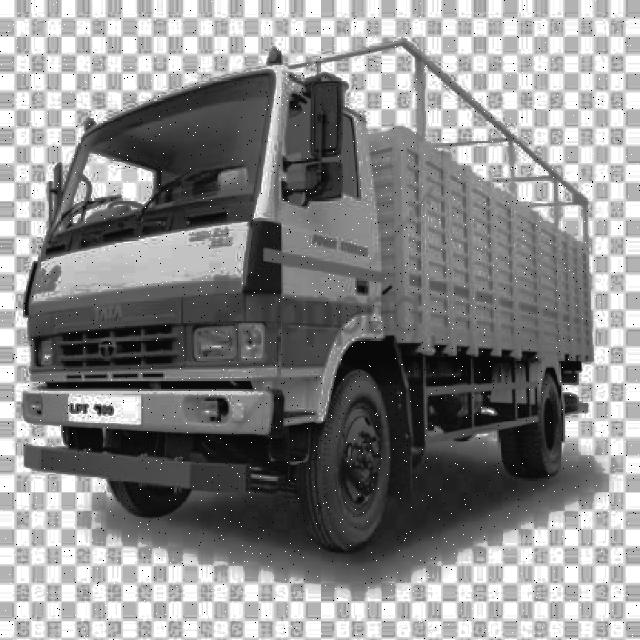HCV: (49, 89, 432, 550)
